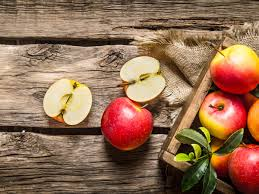apple: (107, 98, 156, 145), (210, 44, 259, 87), (197, 91, 246, 134), (225, 144, 259, 189), (199, 139, 235, 172)
damaged_apple: (42, 79, 99, 126), (120, 57, 167, 102)
